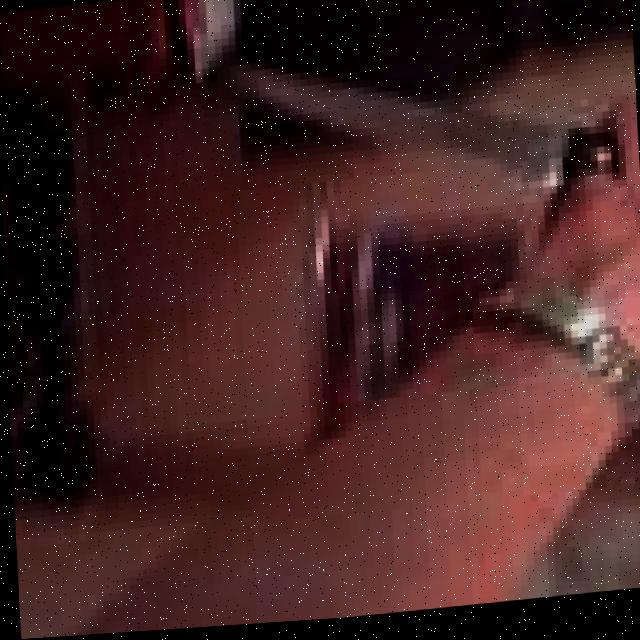knife: (214, 24, 626, 233)
